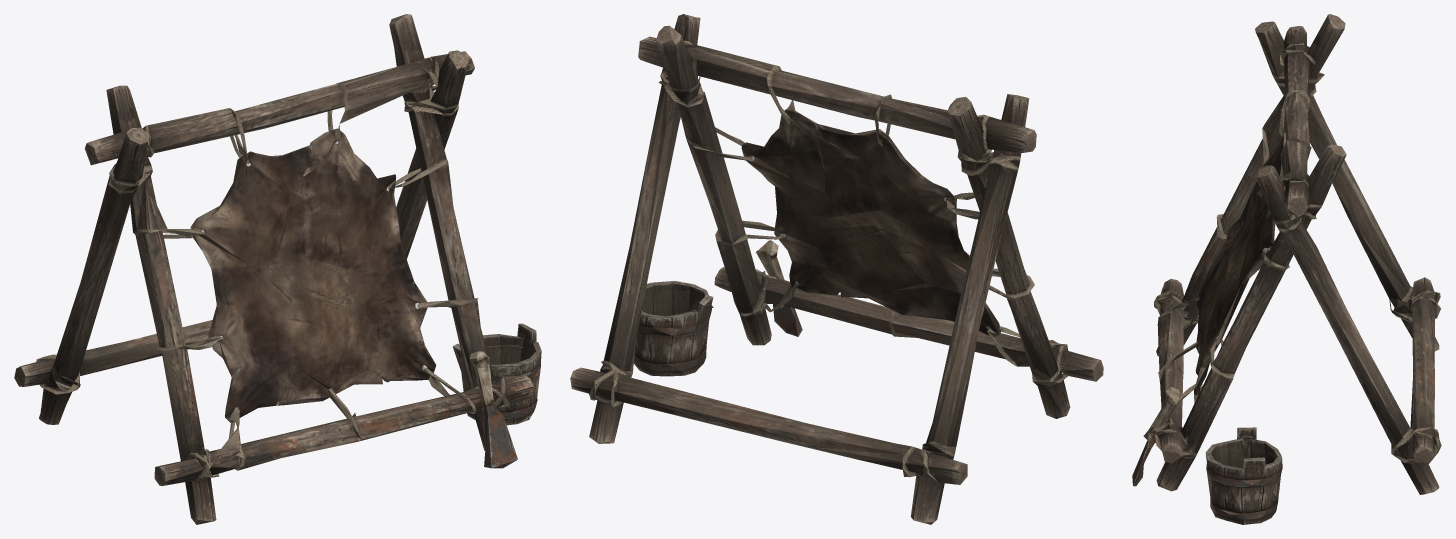
Rendered from hide_frame.glb.
3 views of the same model, side by side, from view 1: azimuth 30°, elevation 25°; view 2: azimuth 150°, elevation 25°; view 3: azimuth 270°, elevation 25° (orthographic). The views are drawn at different scales.
Visible parts, largest first — view 1: hide_frame; view 2: hide_frame; view 3: hide_frame.
Part boxes in pixels (x1=…): hide_frame: x1=14, y1=14, x2=541, y2=524; hide_frame: x1=570, y1=14, x2=1103, y2=524; hide_frame: x1=1132, y1=14, x2=1441, y2=524.
Bounding box in the file's own units: 2.81 × 2.4 × 1.94.
1 material, 1 textured.
